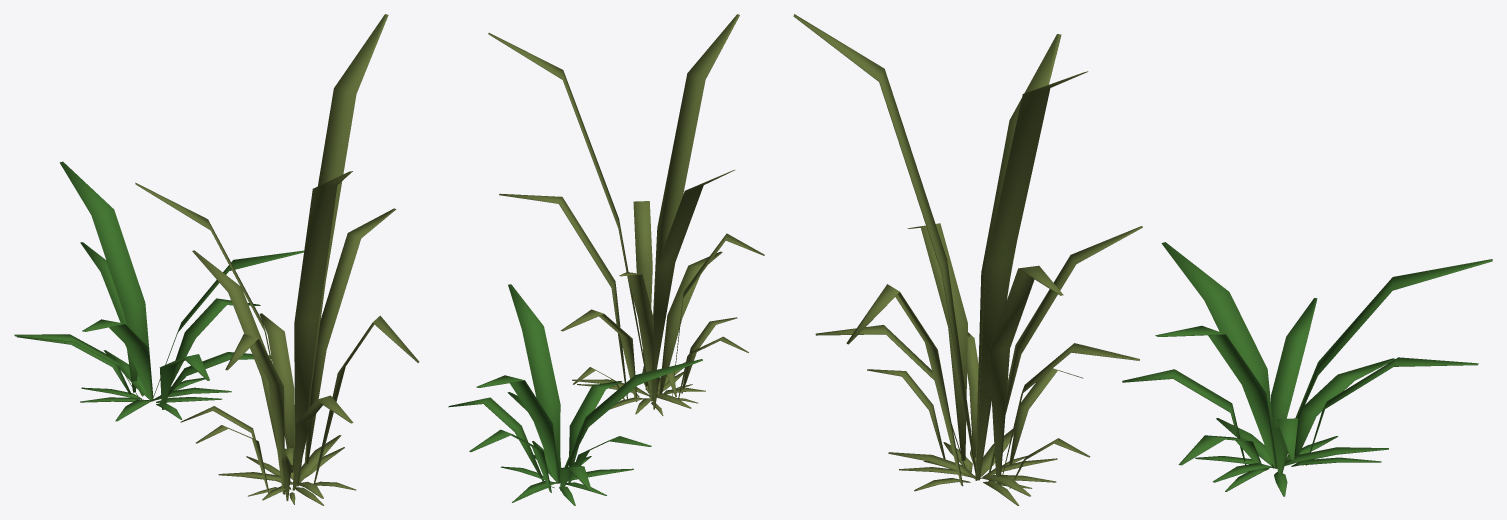
File: Grass.fbx
3 renders of one model, left to right at view 1: azimuth 30°, elevation 25°; view 2: azimuth 150°, elevation 25°; view 3: azimuth 270°, elevation 25°, orthographic. The views are drawn at different scales.
Visible parts, largest first — view 1: Plane.003, Plane.005; view 2: Plane.003, Plane.005; view 3: Plane.003, Plane.005.
Part boxes in pixels (x1,y1,x2,y2): Plane.003: (135,14,419,505); Plane.005: (14,161,304,421); Plane.003: (488,14,764,415); Plane.005: (448,284,702,505); Plane.003: (793,14,1142,505); Plane.005: (1122,242,1492,496).
Bounding box in the file's own units: 65.37 × 91.24 × 118.
